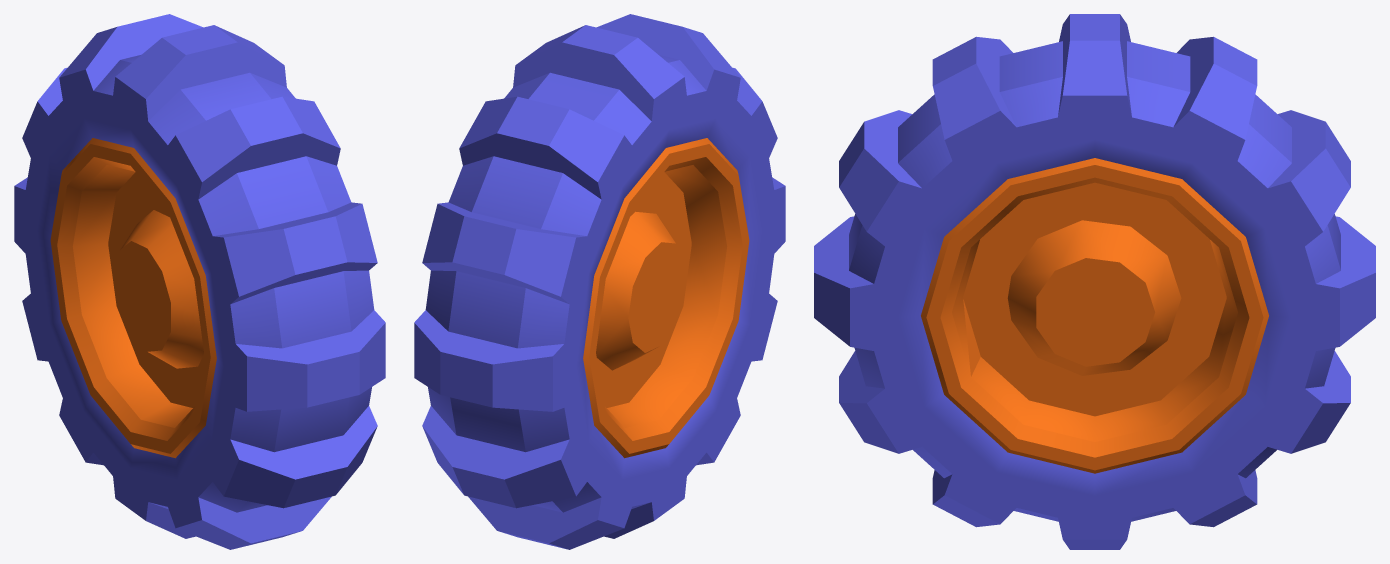
Rendered from SM_Kart_Wheel.fbx.
3 views of the same model, side by side, from view 1: azimuth 30°, elevation 25°; view 2: azimuth 150°, elevation 25°; view 3: azimuth 270°, elevation 25° (orthographic). The views are drawn at different scales.
Visible parts, largest first — view 1: SM_Kart_Wheel; view 2: SM_Kart_Wheel; view 3: SM_Kart_Wheel.
Part boxes in pixels (<box>): SM_Kart_Wheel: <box>14,14,385,549</box>; SM_Kart_Wheel: <box>414,14,785,549</box>; SM_Kart_Wheel: <box>814,14,1375,549</box>.
Bounding box in the file's own units: 0.3 × 1 × 1.
